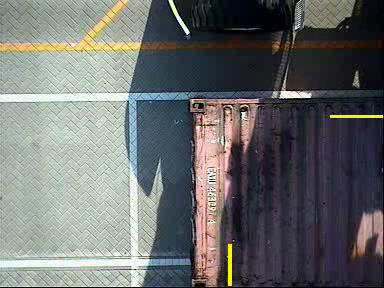groundmarker_2: (148, 123, 175, 170)
